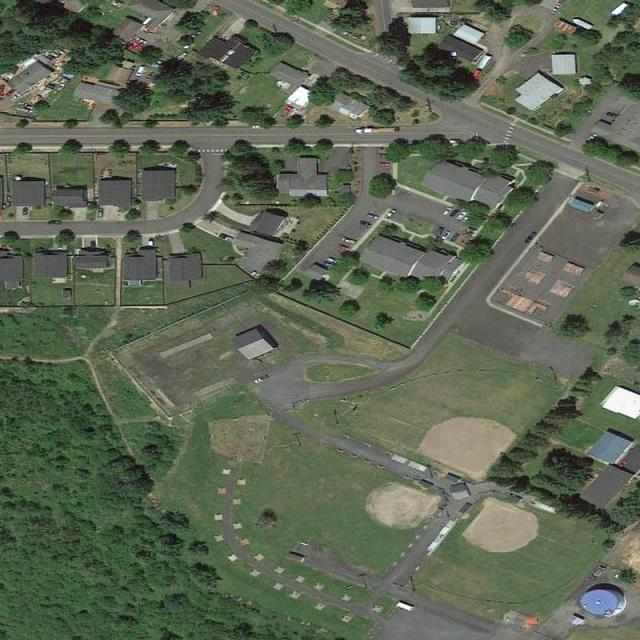vehicle: (354, 126, 398, 134), (524, 230, 537, 245), (253, 372, 267, 383), (342, 234, 356, 244), (135, 65, 146, 77), (457, 210, 466, 221), (219, 234, 233, 241), (338, 242, 350, 250), (551, 5, 560, 15), (146, 73, 157, 81), (326, 257, 338, 264), (366, 211, 378, 218), (443, 206, 452, 215), (154, 58, 162, 68), (385, 210, 395, 218), (379, 161, 392, 167), (48, 220, 61, 226), (136, 38, 147, 45), (251, 123, 262, 130), (361, 221, 372, 228), (22, 206, 28, 217), (443, 230, 449, 240), (98, 208, 104, 218), (450, 138, 461, 143)
